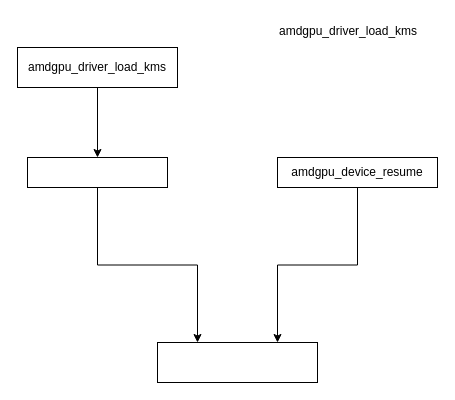
The diagram is 455 pixels wide and 400 high, and some of its shapes have lost their labels. The shapes that lost their labels are listed below. From the top down, each one's box as (x1, y1, x2, y2) in pixels, then its label:
(26, 156, 168, 188): amdgpu_device_init
(156, 342, 318, 382): amdgpu_device_ip_late_init
